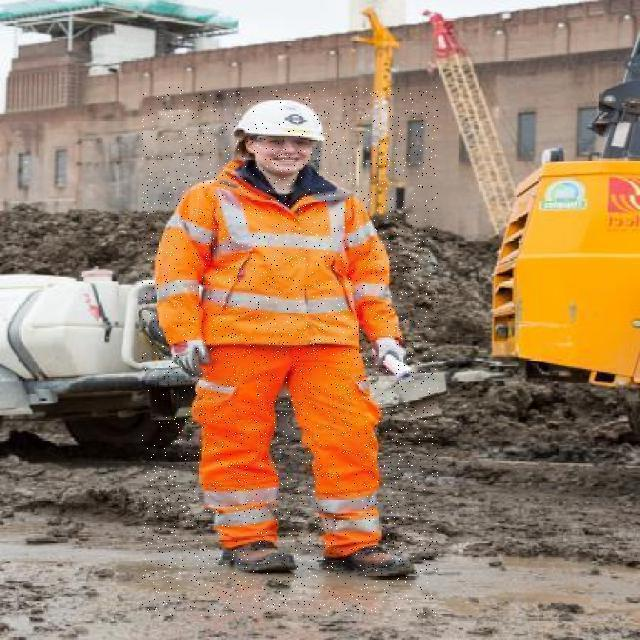helmet: (234, 99, 327, 145)
safety_vest: (154, 159, 402, 350)
